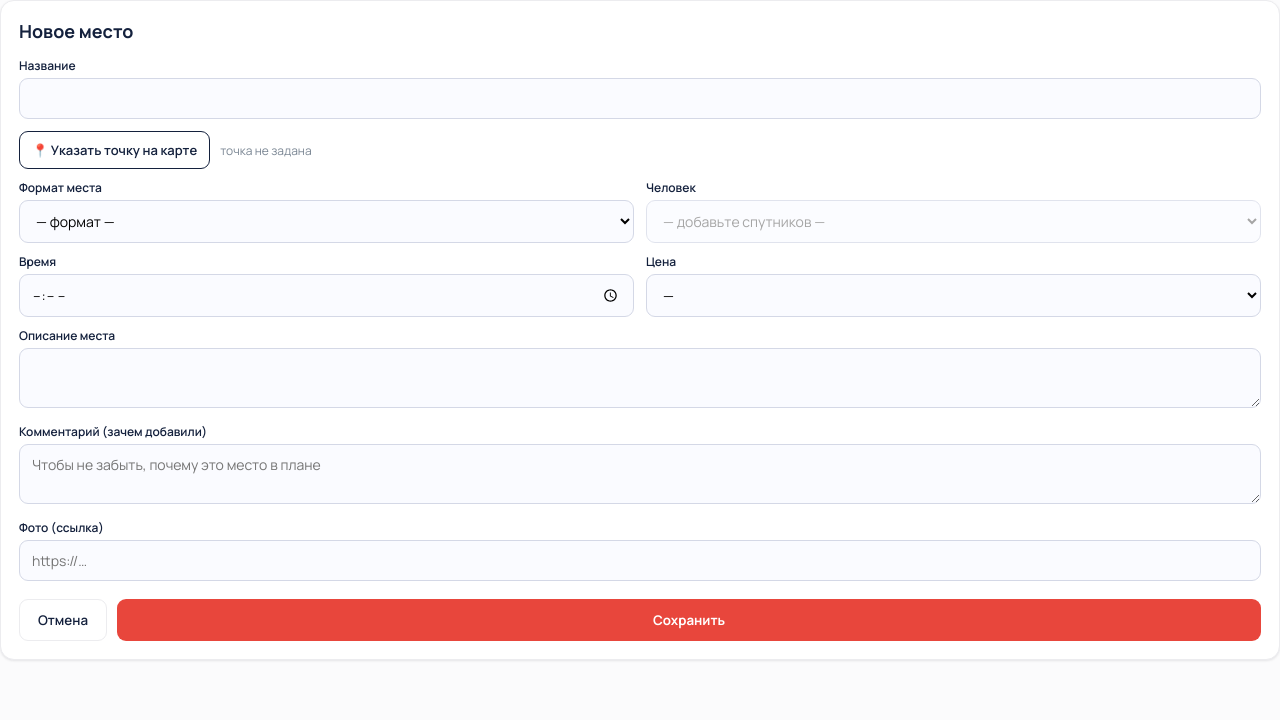
Test case: PlaceForm › показывает ошибки при пустой отправке
This screenshot has width=1280, height=720.
Click the button "Сохранить".
click(689, 620)  # box [117,599,1261,641]
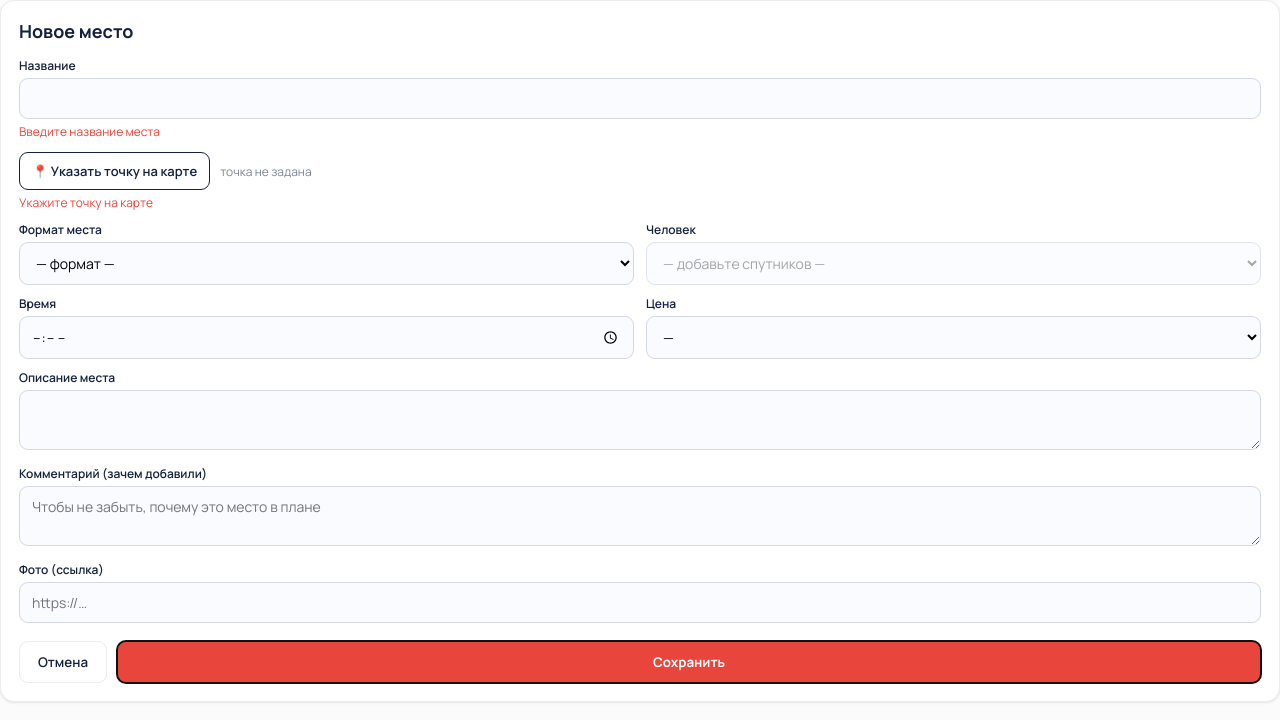
Check: the text "Введите название места" is shown, box [19,123,160,140]
Check: the text "Укажите точку на карте" is shown, box [19,194,153,211]
